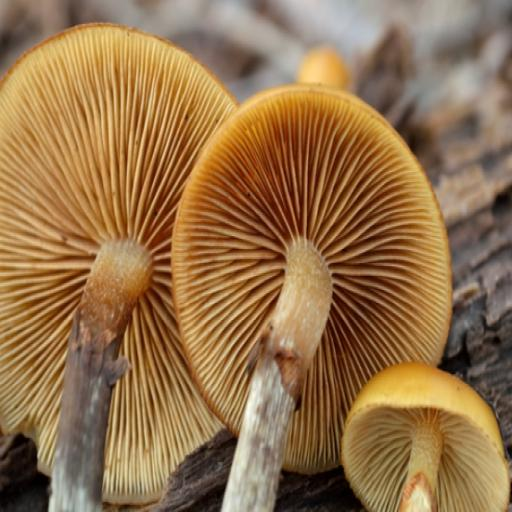Funeral Bell: (0, 19, 506, 511)
